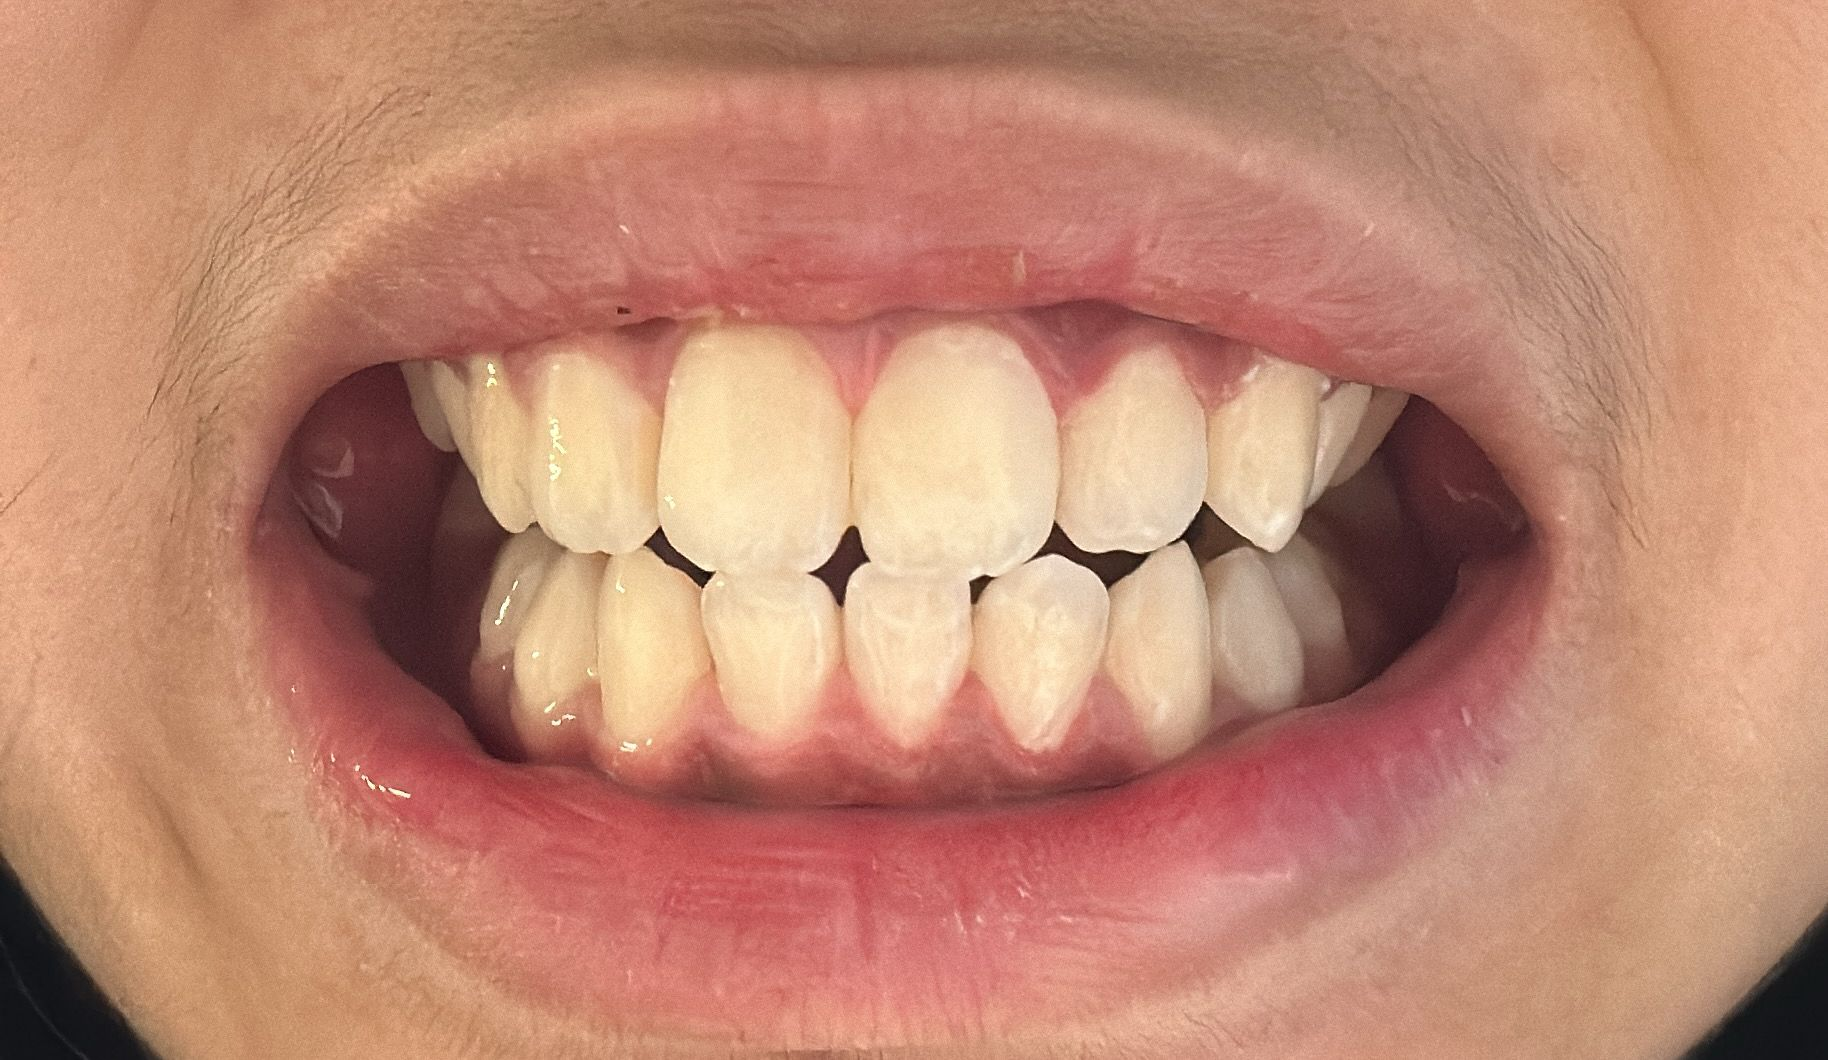teeth: (858, 332, 1055, 572), (660, 336, 843, 572), (1069, 358, 1198, 545), (987, 559, 1113, 743), (532, 360, 651, 550), (848, 574, 969, 739), (1212, 365, 1318, 551), (1120, 550, 1211, 752), (599, 559, 700, 734), (715, 586, 826, 729), (510, 553, 595, 707), (1214, 548, 1299, 699), (471, 361, 519, 534), (1287, 555, 1350, 651)
